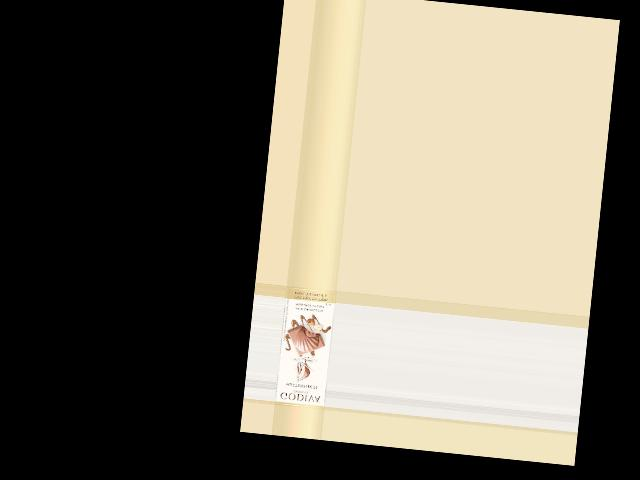chocolate: (275, 286, 336, 409)
